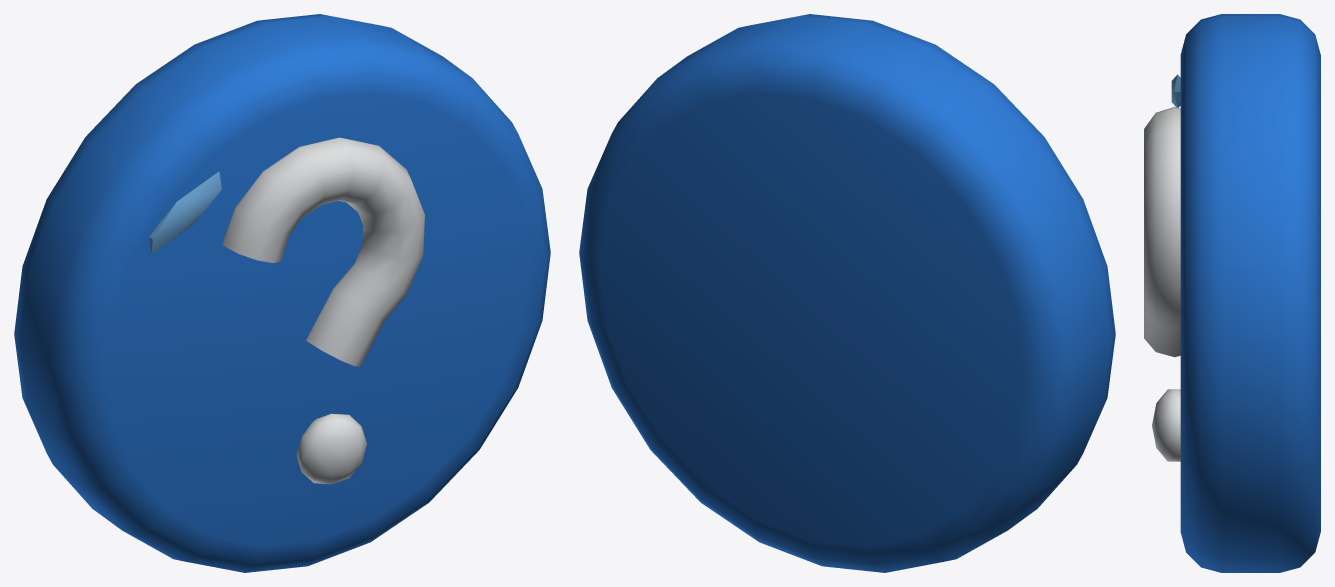
File: ui_help.glb
3 views of the same model, side by side, from view 1: azimuth 30°, elevation 25°; view 2: azimuth 150°, elevation 25°; view 3: azimuth 270°, elevation 25° (orthographic). The views are drawn at different scales.
Parts seen in each view (by area): view 1: body; view 2: body; view 3: body.
Boxes of the visible parts, bbox=[...] form: body: bbox=[14, 14, 550, 572]; body: bbox=[579, 14, 1115, 572]; body: bbox=[1144, 14, 1320, 572].
Size of the model in its own units: 0.48 by 0.48 by 0.1512.
